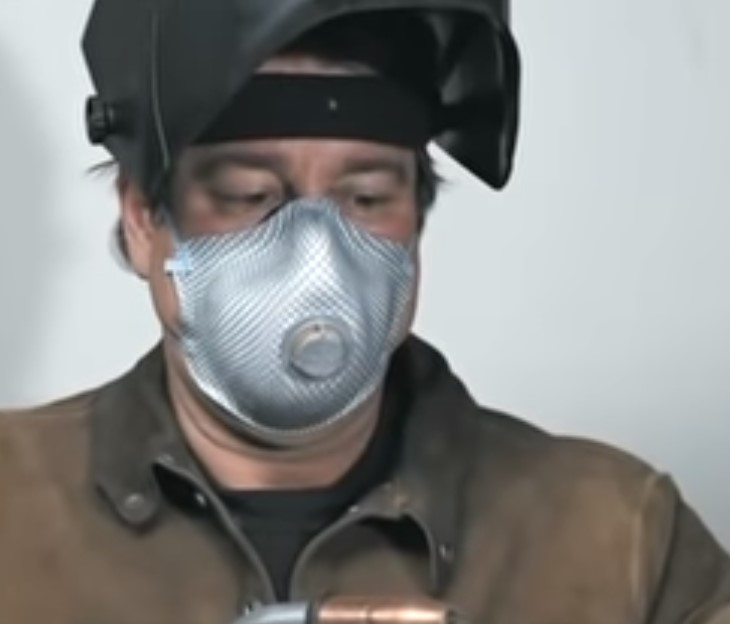face_with_mask: (86, 0, 519, 443)
